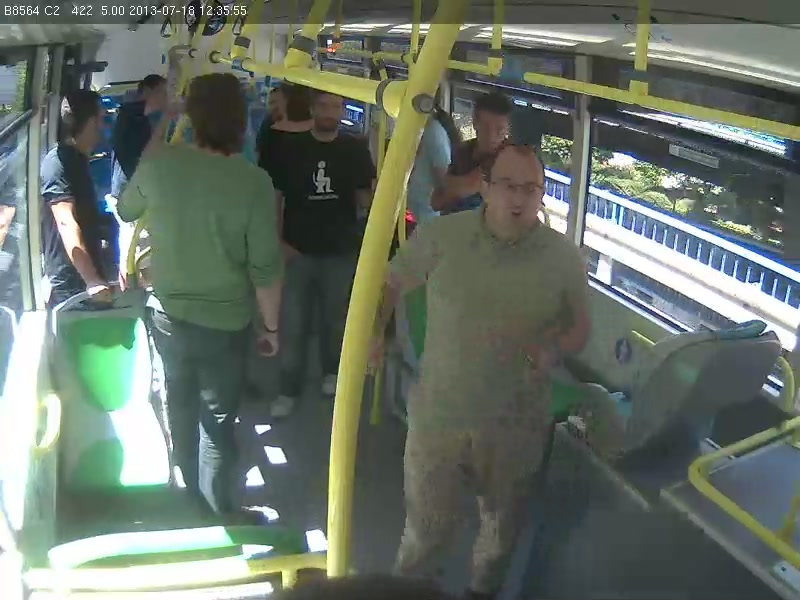Head: (480, 139, 555, 242), (180, 73, 248, 156), (56, 81, 108, 157), (467, 87, 518, 143), (307, 83, 351, 132), (132, 67, 174, 118), (261, 77, 296, 120)
